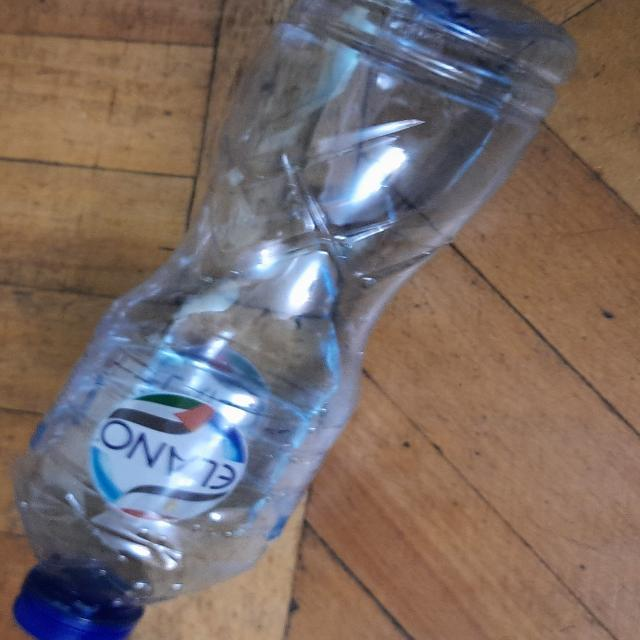plastic: (0, 0, 602, 640)
